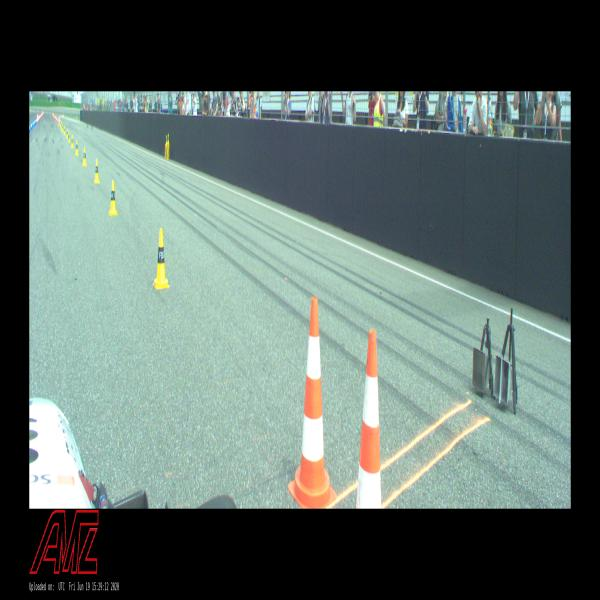large_orange_cone: (288, 296, 337, 508), (356, 329, 381, 509)
yellow_cone: (153, 228, 169, 289), (109, 180, 118, 215), (94, 158, 100, 183), (82, 146, 87, 166), (75, 140, 79, 155), (71, 135, 74, 148), (68, 132, 71, 142), (67, 129, 68, 138)
